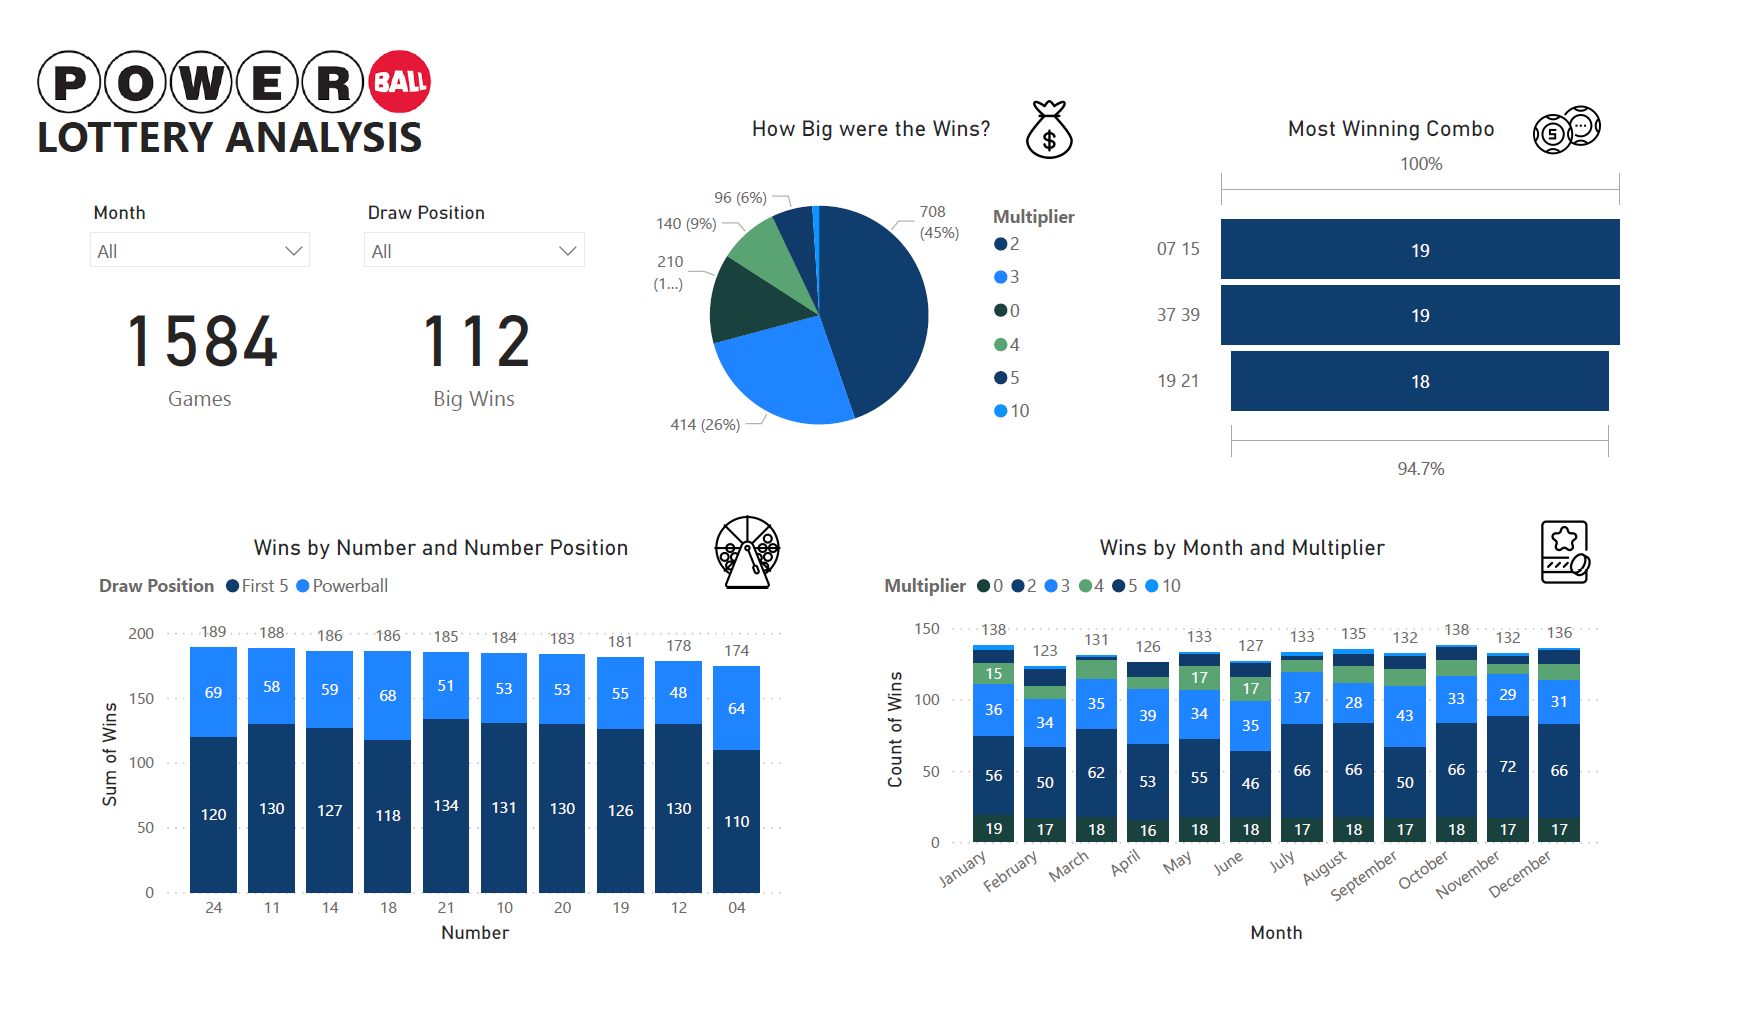

The page's visual inventory and layout, read from the dashboard file:
{"tool":"powerbi","page":{"name":"Page 1","canvas":[1280,720],"ordinal":0},"visuals":[{"type":"columnChart","title":"Wins by Number and Number Position","fields":{"Category":["Winning Numbers.Number"],"Y":["CountNonNull(Winning Numbers.Result as value)"],"Series":["Winning Numbers.Draw Position"]},"box":[47,379,527,314],"z":0},{"type":"columnChart","title":"Wins by Month and Multiplier","fields":{"Y":["CountNonNull(Lottery_Powerball.Result)"],"Series":["Lottery_Powerball.Multiplier"],"Category":["Lottery_Powerball.Draw Date.Variation.Date Hierarchy.Month"]},"box":[640,379,551,314],"z":1000},{"type":"funnel","title":"Most Winning Combo","fields":{"Category":["Most Winning Combos.Combination of 2 Numbers"],"Y":["CountNonNull(Most Winning Combos.Winning Combination)"]},"box":[846,63,364,283],"z":2000},{"type":"card","fields":{"Values":["CountNonNull(Lottery_Powerball.Winning Numbers)"]},"box":[37.4,171.7,182.9,131.4],"z":3000},{"type":"card","fields":{"Values":["CountNonNull(Lottery_Powerball.Winning Numbers)"]},"box":[236,171.7,198.6,131.4],"z":4000},{"type":"slicer","fields":{"Values":["Lottery_Powerball.Draw Date.Variation.Date Hierarchy.Month"]},"box":[35,123,187,81],"z":5000},{"type":"slicer","fields":{"Values":["Winning Numbers.Draw Position"]},"box":[242,123,187,81],"z":6000},{"type":"pieChart","title":"How Big were the Wins?","fields":{"Category":["Lottery_Powerball.Multiplier"],"Y":["CountNonNull(Lottery_Powerball.Winning Numbers)"]},"box":[460,62.9,351.4,282.9],"z":7000},{"type":"textbox","box":[0,0,335,105],"z":8000},{"type":"image","box":[0,0,311,74],"z":9000},{"type":"image","box":[509,360,65,65],"z":10000},{"type":"image","box":[1129,44,63,61],"z":11000},{"type":"image","box":[743,43,54,61],"z":12000},{"type":"image","box":[1128,360,63,65],"z":13000}]}

Visuals, with their boxes in screenshot pixels (x1, y1, x2, y2), scaled from the page's 1280x720 canvas onto the 1743x1010 screenshot:
"Wins by Number and Number Position" columnChart: Rect(64, 532, 782, 972)
"Wins by Month and Multiplier" columnChart: Rect(872, 532, 1622, 972)
"Most Winning Combo" funnel: Rect(1152, 88, 1648, 485)
card - CountNonNull(Lottery_Powerball.Winning Numbers): Rect(51, 241, 300, 425)
card - CountNonNull(Lottery_Powerball.Winning Numbers): Rect(321, 241, 592, 425)
slicer - Lottery_Powerball.Draw Date.Variation.Date Hierarchy.Month: Rect(48, 173, 302, 286)
slicer - Winning Numbers.Draw Position: Rect(330, 173, 584, 286)
"How Big were the Wins?" pieChart: Rect(626, 88, 1105, 485)
textbox: Rect(0, 0, 456, 147)
image: Rect(0, 0, 423, 104)
image: Rect(693, 505, 782, 596)
image: Rect(1537, 62, 1623, 147)
image: Rect(1012, 60, 1085, 146)
image: Rect(1536, 505, 1622, 596)
